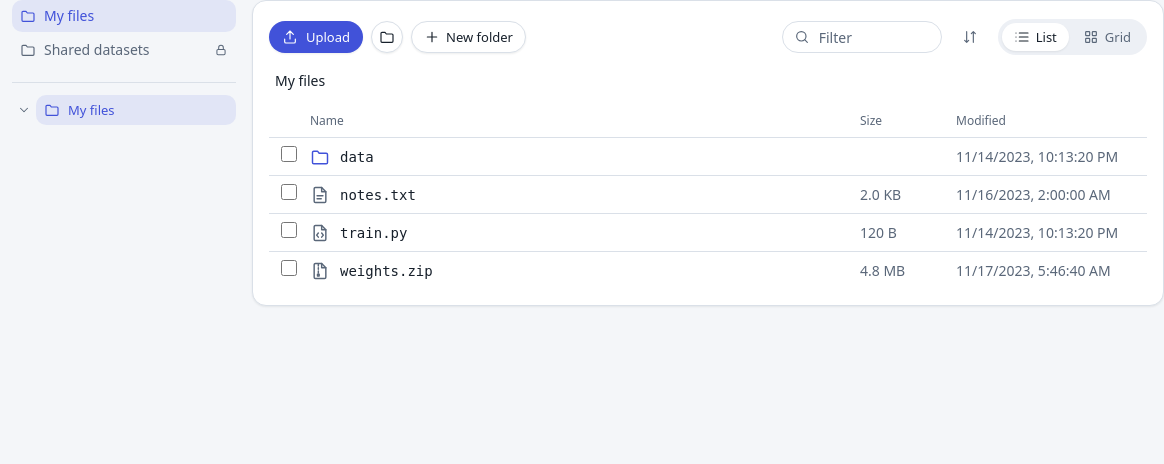
Scenario: Files workspace › shows the selection bar with the count when two files are selected
The image size is (1164, 464).
Click the checkbox named "Select train.py": (289, 230) [281,222,297,238]
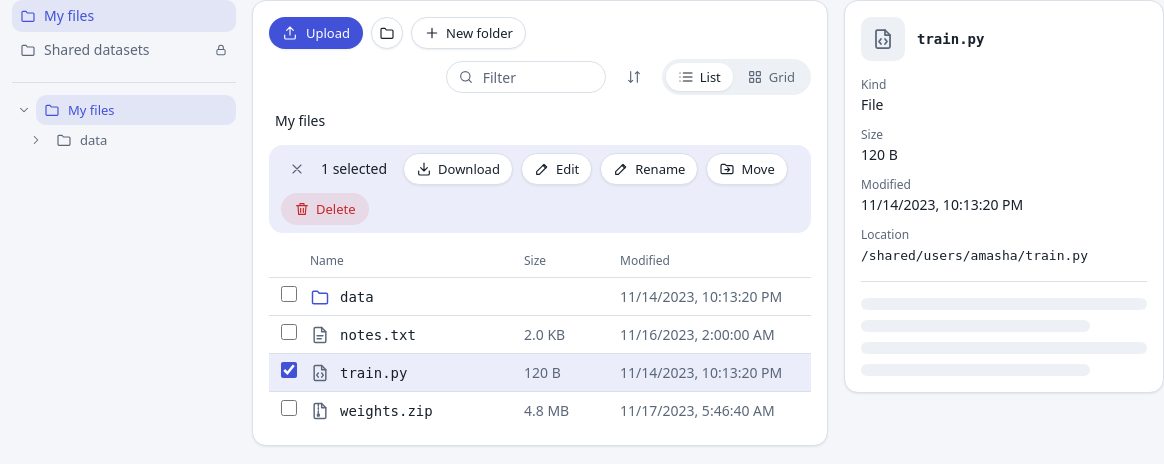
Expected: the element named "Selection" shows "1 selected", [269,145,811,233]
Click the checkbox named "Select notes.txt": (289, 332) [281,324,297,340]
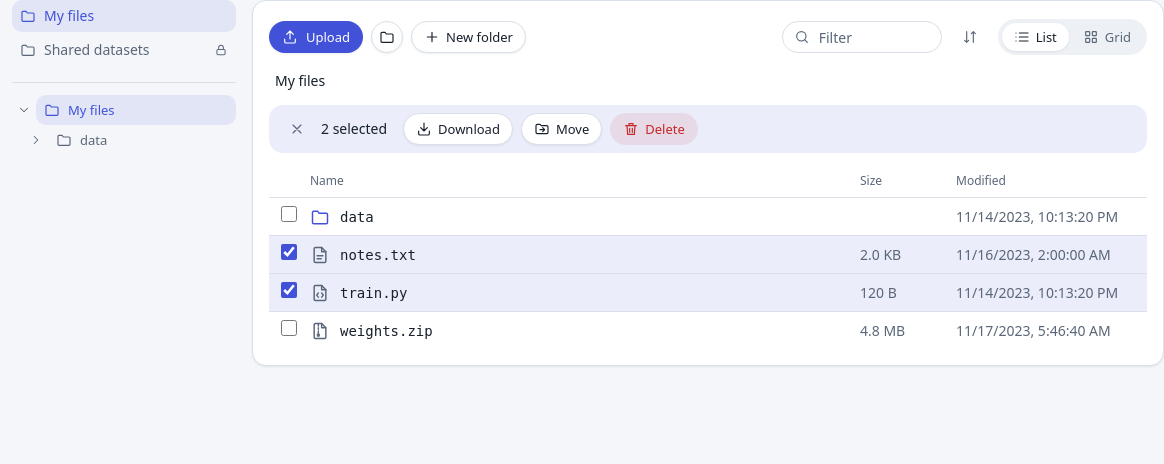
Expected: the button "Download" is shown, [403,113,513,145]
Expected: the button "Move" is shown, [521,113,602,145]
Expected: the element named "Selection" shows "2 selected", [269,105,1147,153]
Click the button named "Clear selection": (297, 129) [281,113,313,145]
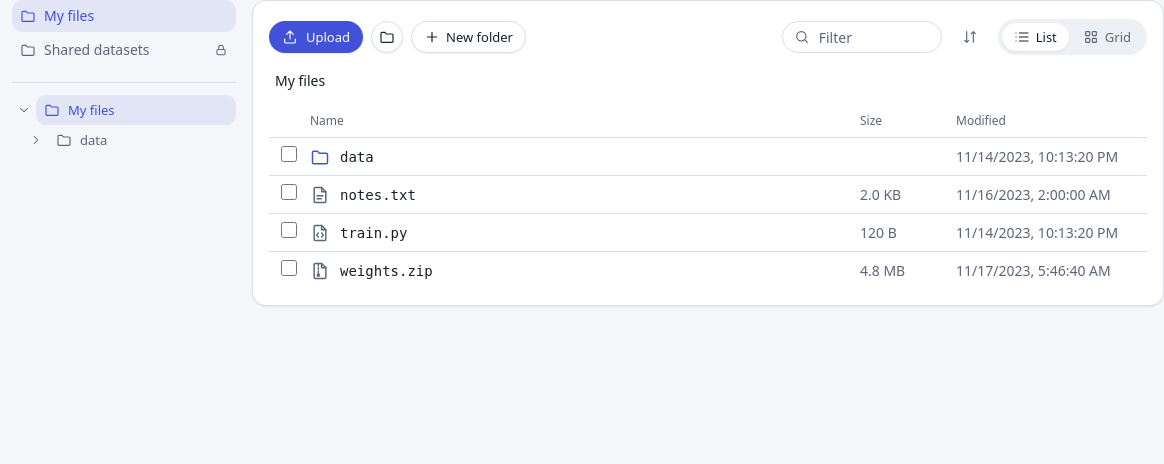
Expected: the button "Selection" is gone
